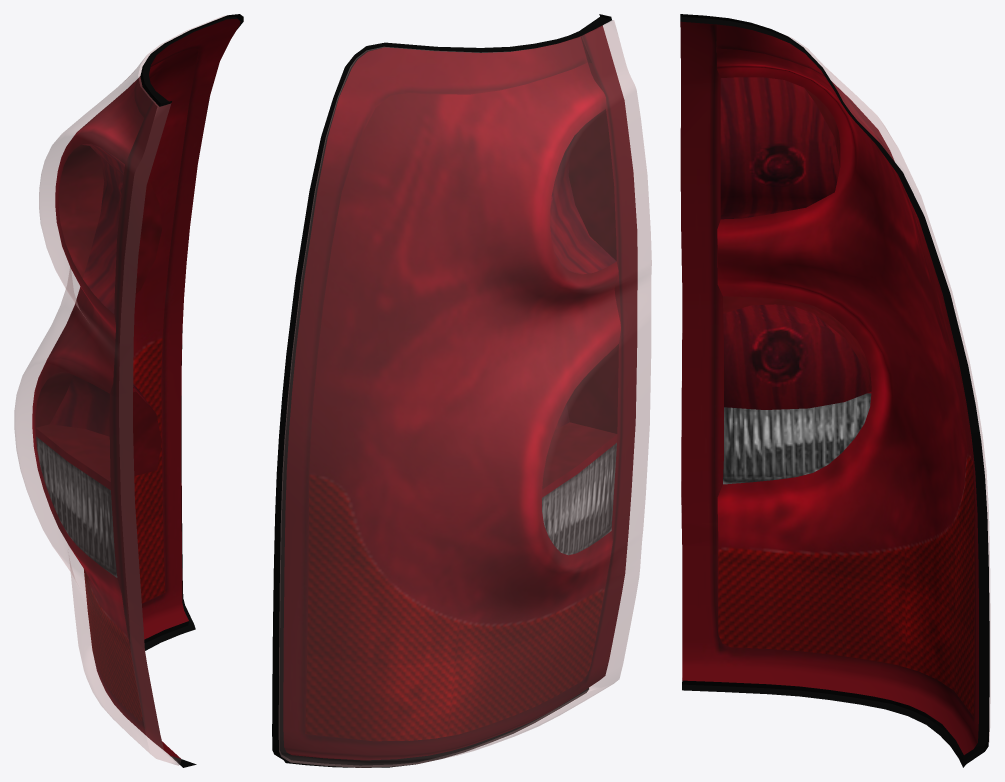
The picture shows the model from 3 angles, left to right: view 1: azimuth 30°, elevation 25°; view 2: azimuth 150°, elevation 25°; view 3: azimuth 270°, elevation 25°; orthographic projection. The views are drawn at different scales.
Visible parts, largest first — view 1: U803_1A_541C_L_U803_1A_541C_L_2_N, U803_1A_541C_L_U803_1A_541C_L_1_DTaSI, U803_1A_541C_L_3_D_U803_1A_541C_L; view 2: U803_1A_541C_L_U803_1A_541C_L_1_DTaSI, U803_1A_541C_L_U803_1A_541C_L_2_N, U803_1A_541C_L_3_D_U803_1A_541C_L; view 3: U803_1A_541C_L_U803_1A_541C_L_2_N, U803_1A_541C_L_3_D_U803_1A_541C_L, U803_1A_541C_L_U803_1A_541C_L_1_DTaSI.
Boxes of the visible parts, left/top/right/bottom form: U803_1A_541C_L_U803_1A_541C_L_2_N: left=32, top=18, right=240, bottom=758; U803_1A_541C_L_U803_1A_541C_L_1_DTaSI: left=14, top=15, right=226, bottom=765; U803_1A_541C_L_3_D_U803_1A_541C_L: left=140, top=14, right=243, bottom=767; U803_1A_541C_L_U803_1A_541C_L_1_DTaSI: left=279, top=20, right=651, bottom=767; U803_1A_541C_L_U803_1A_541C_L_2_N: left=283, top=25, right=637, bottom=760; U803_1A_541C_L_3_D_U803_1A_541C_L: left=272, top=14, right=611, bottom=767; U803_1A_541C_L_U803_1A_541C_L_2_N: left=680, top=21, right=978, bottom=754; U803_1A_541C_L_3_D_U803_1A_541C_L: left=680, top=14, right=989, bottom=767; U803_1A_541C_L_U803_1A_541C_L_1_DTaSI: left=788, top=36, right=990, bottom=742.
Bounding box in the file's own units: 12.89 × 37.06 × 15.61.
